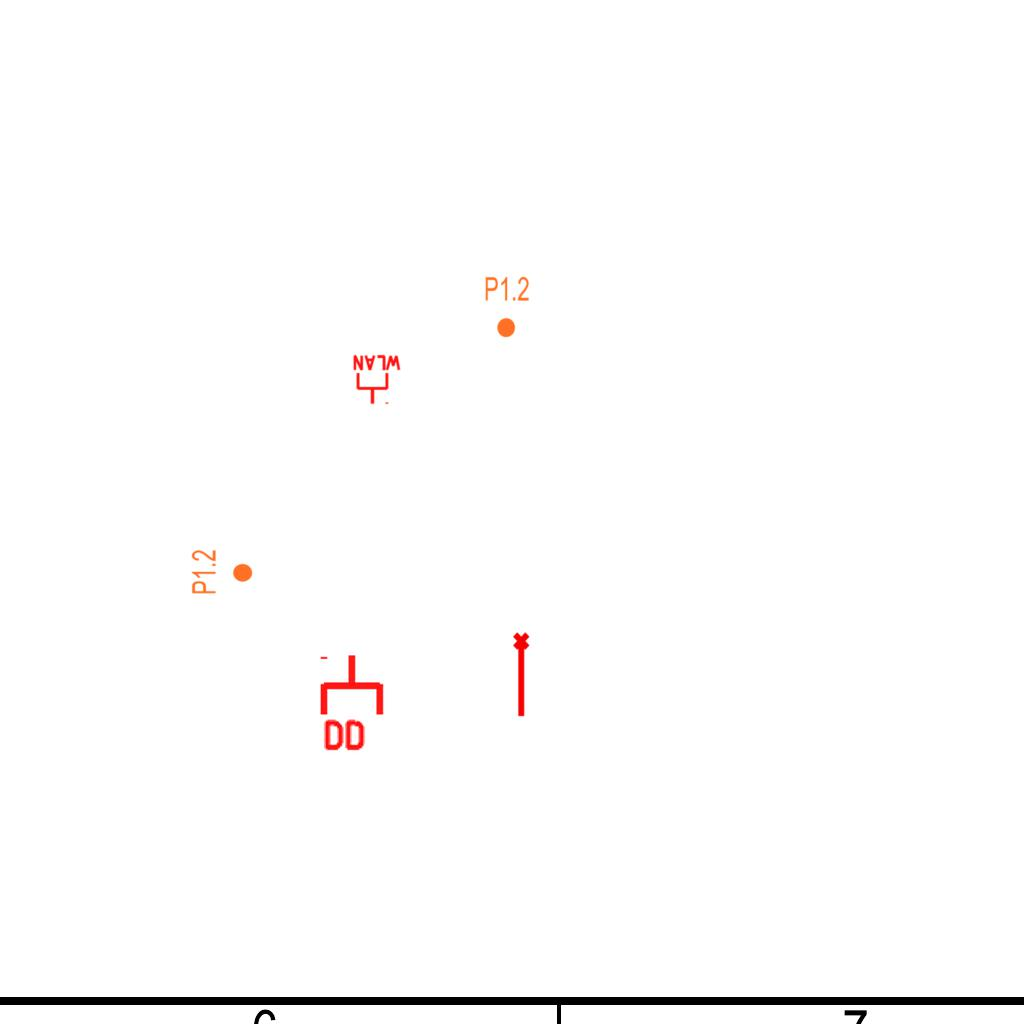ASR_Ansaugoeffnung: (511, 631, 534, 719)
Datenanschluss_zweifach: (319, 652, 388, 755)
Downlight_LED_Einbauleuchten_Flur: (484, 275, 530, 339), (190, 549, 254, 595)
WLAN: (351, 354, 403, 406)
